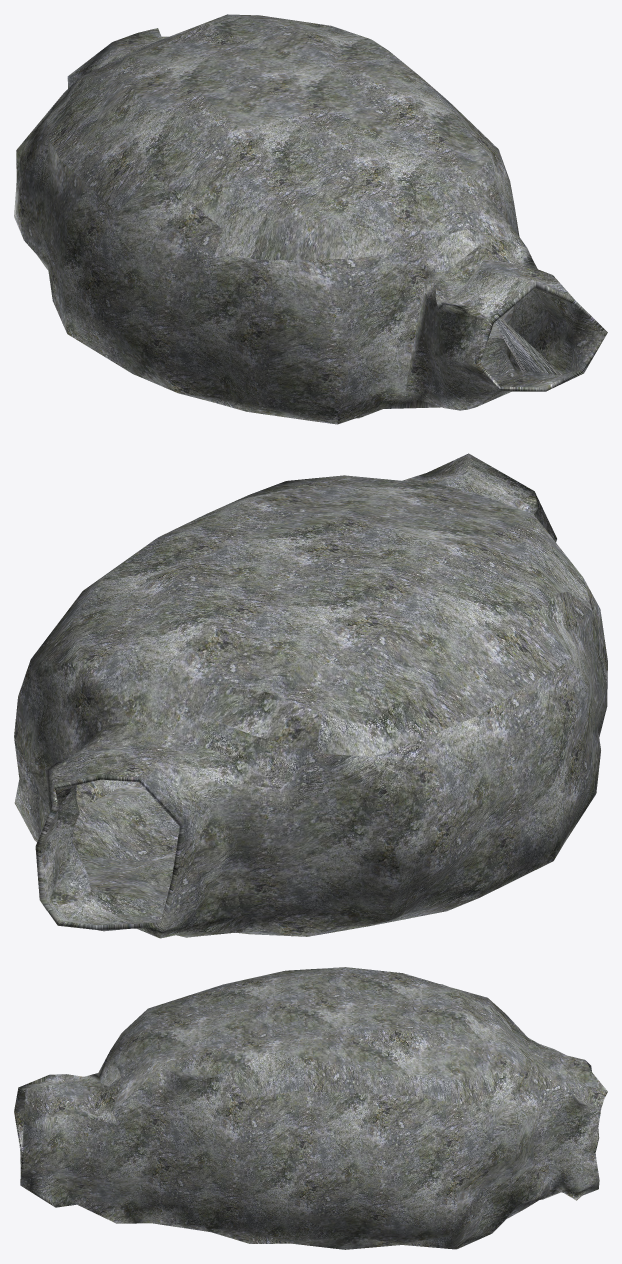
The model's file is cave-chamber-sealed.glb.
3 renders of one model, top to bottom at view 1: azimuth 30°, elevation 25°; view 2: azimuth 150°, elevation 25°; view 3: azimuth 270°, elevation 25°, orthographic. The views are drawn at different scales.
Visible parts, largest first — view 1: CC0_CAVE_CHAMBER; view 2: CC0_CAVE_CHAMBER; view 3: CC0_CAVE_CHAMBER.
Part boxes in pixels (bbox=[...]): CC0_CAVE_CHAMBER: bbox=[14, 14, 607, 424]; CC0_CAVE_CHAMBER: bbox=[14, 453, 607, 938]; CC0_CAVE_CHAMBER: bbox=[14, 967, 607, 1249].
Size of the model in its own units: 10.64 by 6.29 by 17.03.
Materials: 1 (1 with a texture image).
